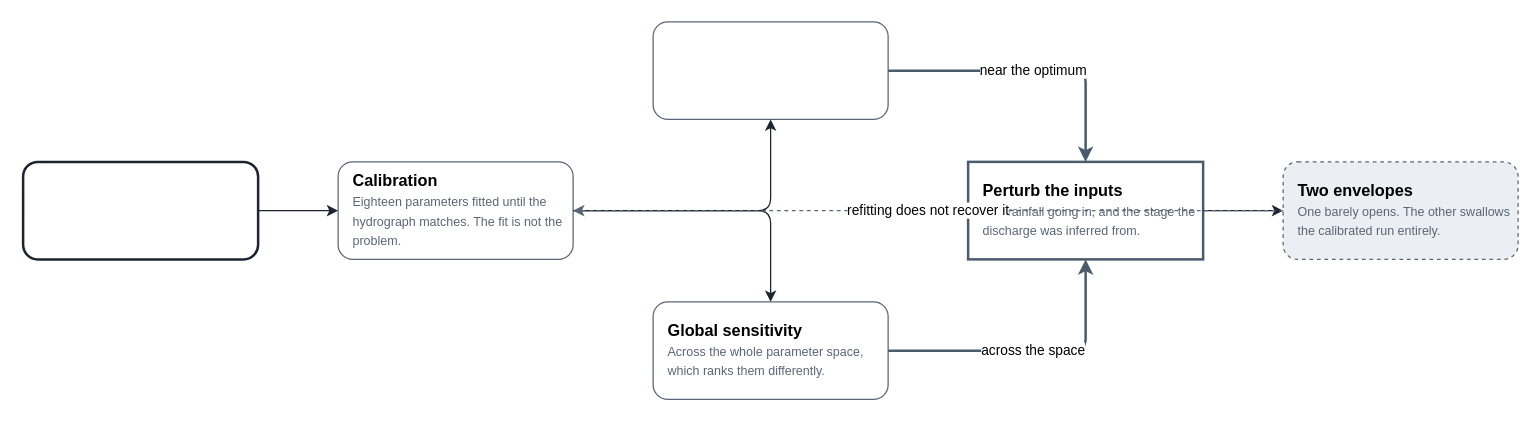
The diagram is 1540 pixels wide and 421 high, and some of its shapes have lost their labels. Here are the shapes that lost their labels. From the top down, the box of each, then its label:
(652, 21, 888, 119): Local sensitivity One parameter at a time, in the neighbourhood of the optimum.
(21, 160, 259, 260): HBV baseline A conceptual rainfall-runoff model over one high-flow event.
